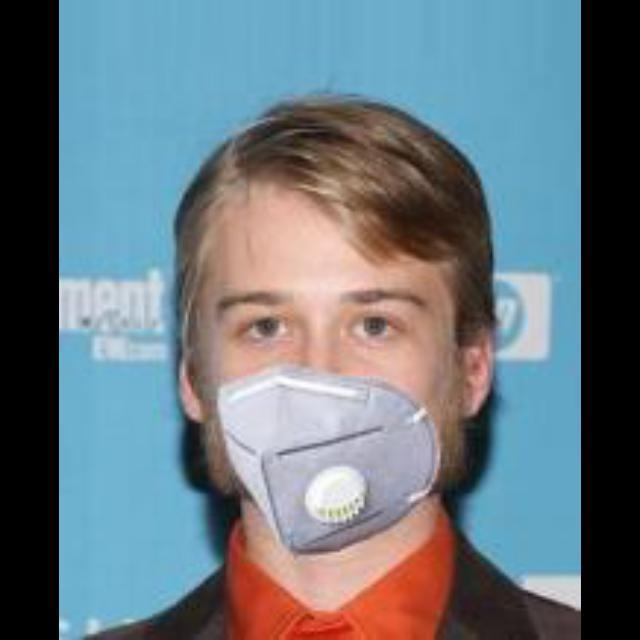suspicion: (205, 106, 501, 524)
